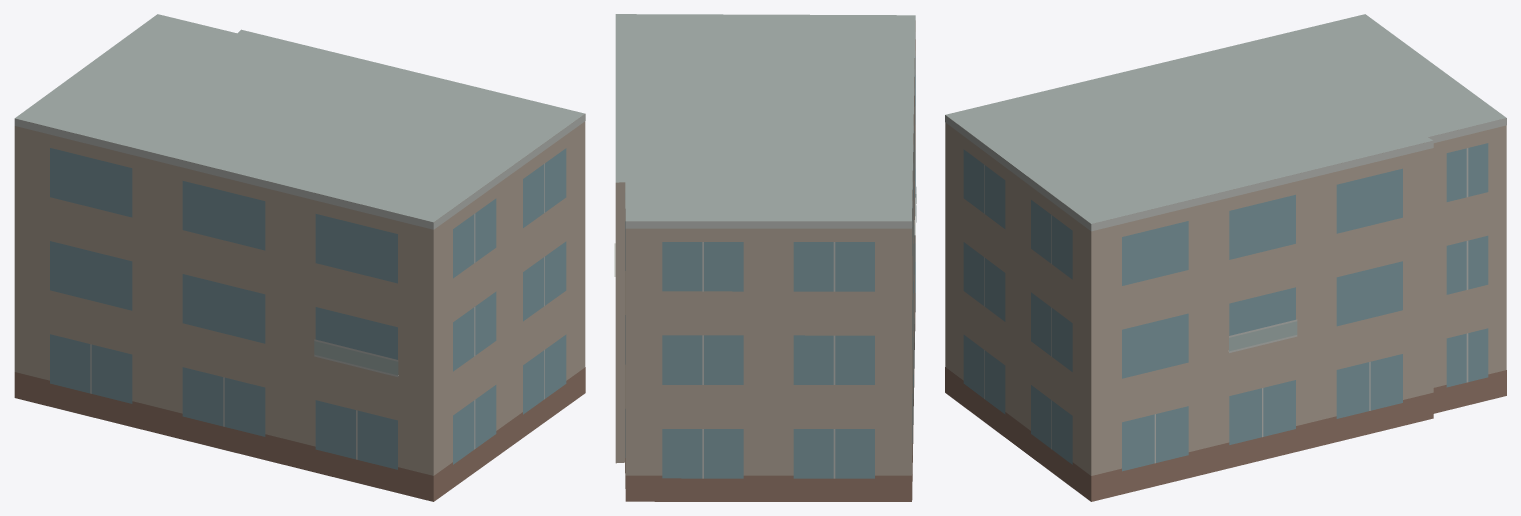
The model's file is survey-upis-32711051.glb.
The picture shows the model from 3 angles, left to right: view 1: azimuth 30°, elevation 25°; view 2: azimuth 150°, elevation 25°; view 3: azimuth 270°, elevation 25°; orthographic projection.
Parts seen in each view (by area): view 1: survey-upis-32711051.tmp; view 2: survey-upis-32711051.tmp; view 3: survey-upis-32711051.tmp.
Part boxes in pixels (x1,y1,x2,y2): survey-upis-32711051.tmp: [14, 14, 585, 501]; survey-upis-32711051.tmp: [614, 14, 916, 501]; survey-upis-32711051.tmp: [945, 14, 1506, 501].
Bounding box in the file's own units: 14.84 × 9.15 × 16.77.
